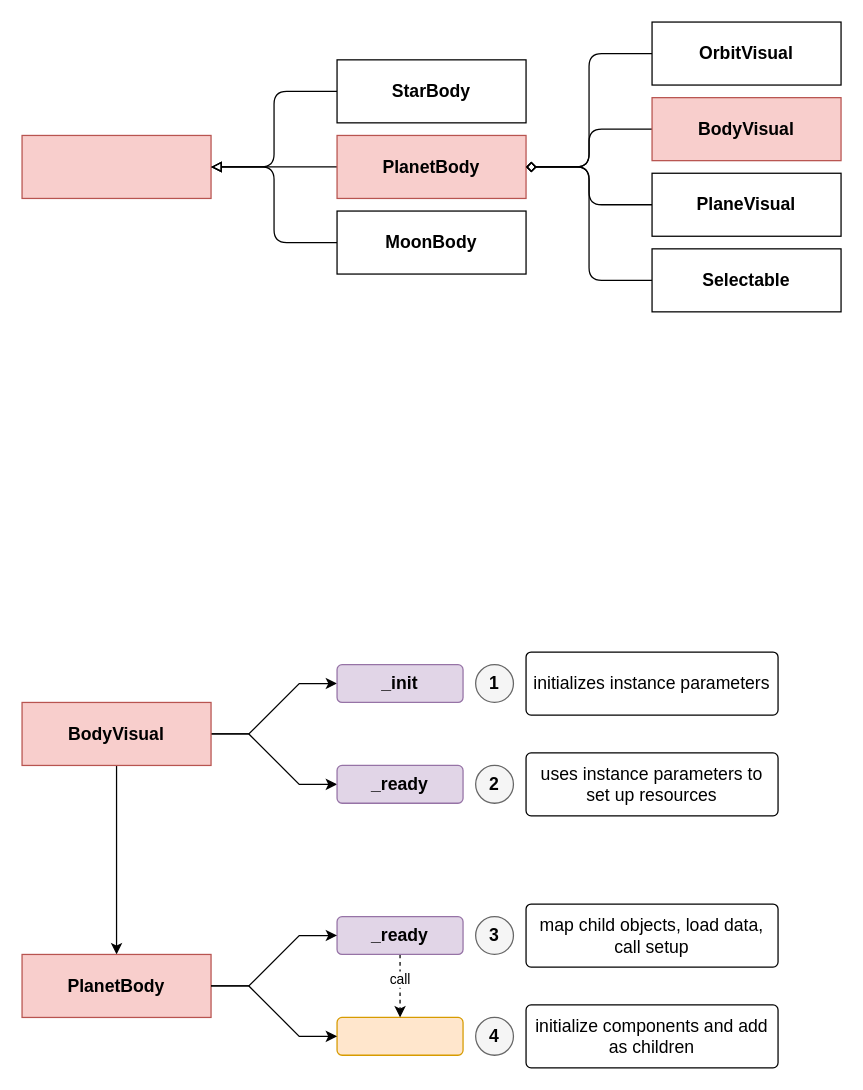
The diagram is 863 pixels wide and 1090 high, and some of its shapes have lost their labels. The shapes that lost their labels are listed below. From the top down, each one's centre as x and y in pixels, then its label:
At (x=116, y=166): "SystemBody".
At (x=399, y=1035): "setup".
